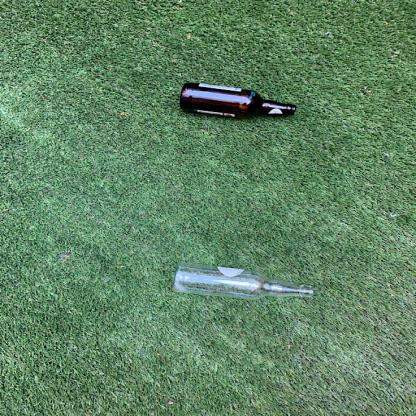trash: (169, 260, 319, 305), (175, 80, 300, 120)
